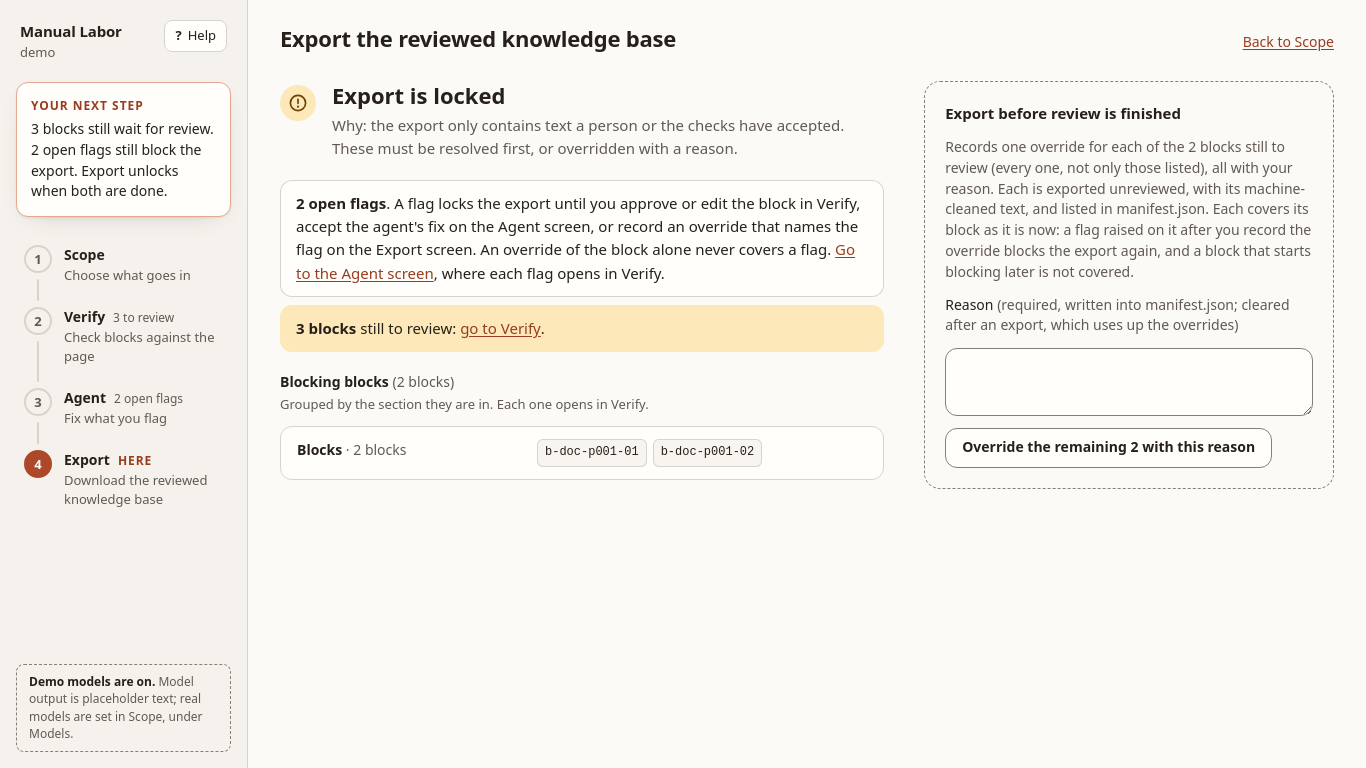
Test: U10 ExportScreen › an override needs a reason and records one override per listed blocker, never a blanket one
This screenshot has width=1366, height=768.
Expected: the element with test id "export-locked" is shown, [280,81,884,480]
Expected: the form with test id "override-form" shows "one override for each of the 2 blocks still to review", [924,81,1334,489]
Click the button with test id "override-submit". click: (1109,448)
box: [945,428,1272,468]
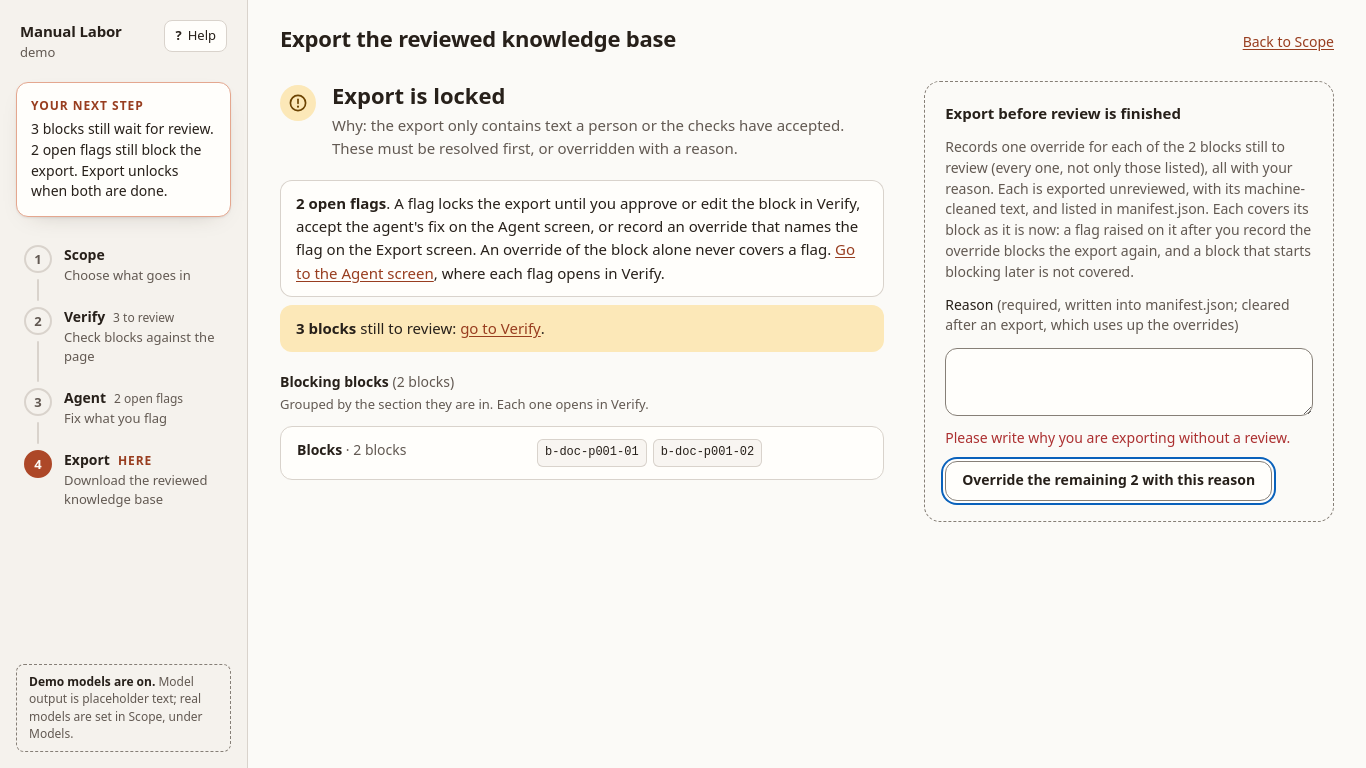
Expected: the message shows "Please write why", [945,428,1290,447]
Type "vendor deadline" into the text box with test id "override-reason". click: (1129,382)
box: [945,348,1313,416]
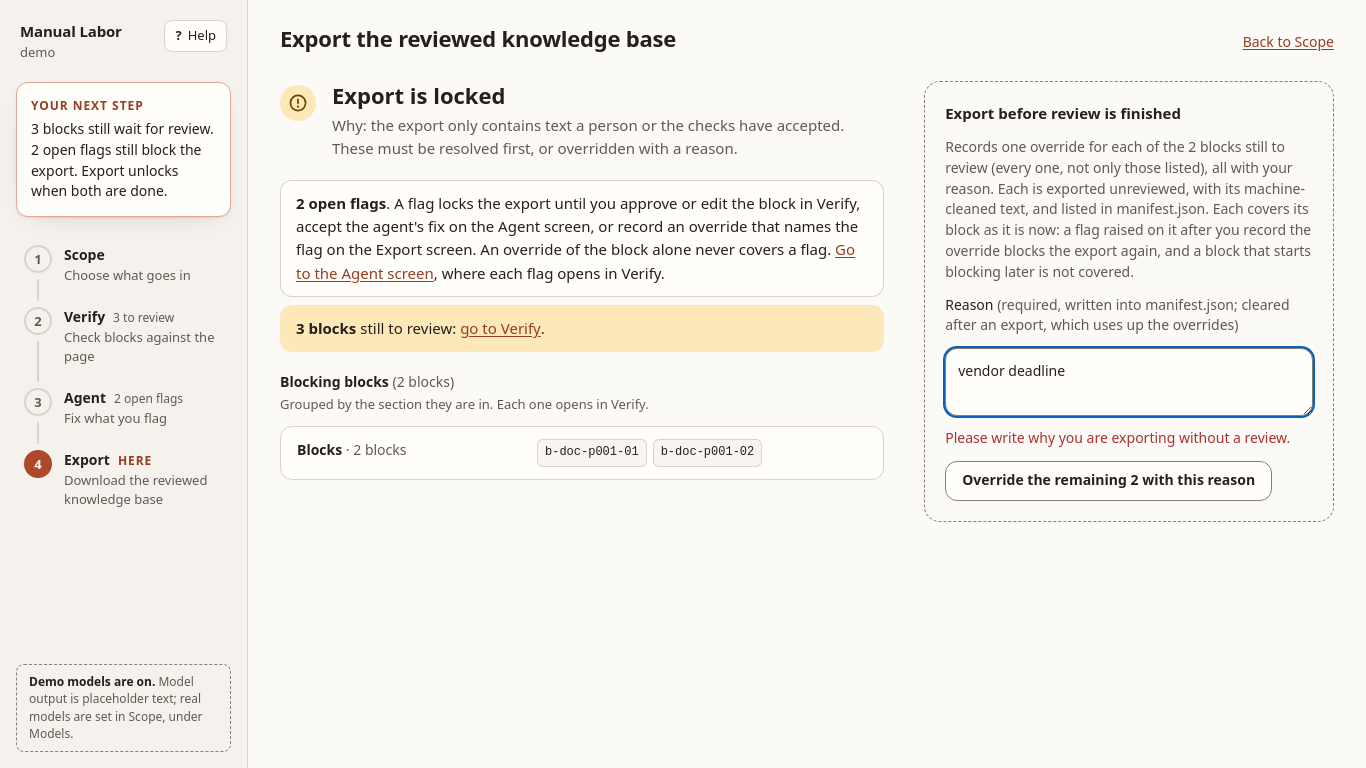
Click the button with test id "override-submit". click: (1109,481)
box: [945,461,1272,501]
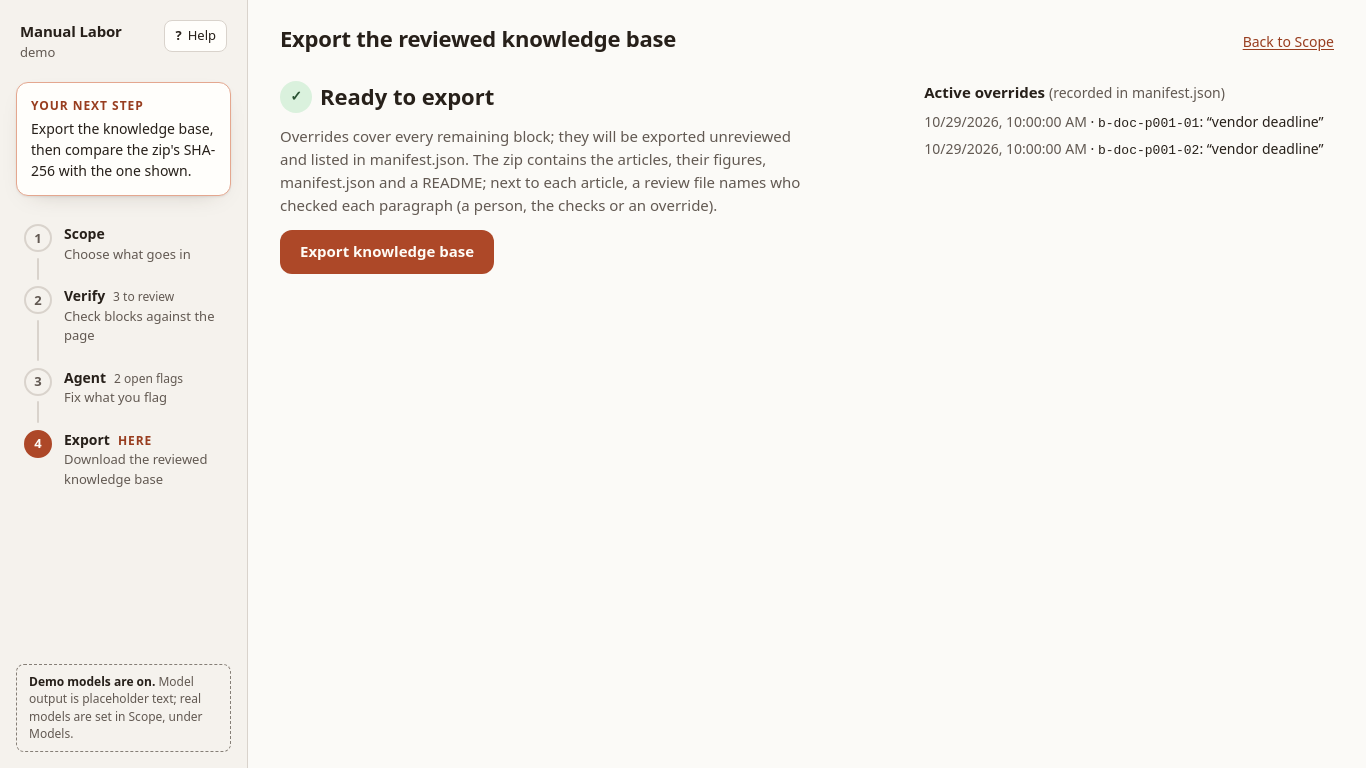
Expected: the element with test id "overrides" shows "vendor deadline", [1212,112,1319,131]
Expected: the element with test id "overrides" shows "b-doc-p001-01", [1098,116,1199,131]
Expected: the element with test id "overrides" shows "recorded in manifest.json", [1049,83,1225,102]
